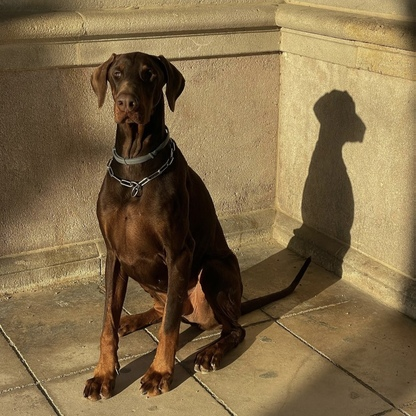doberman: (83, 51, 251, 400)
